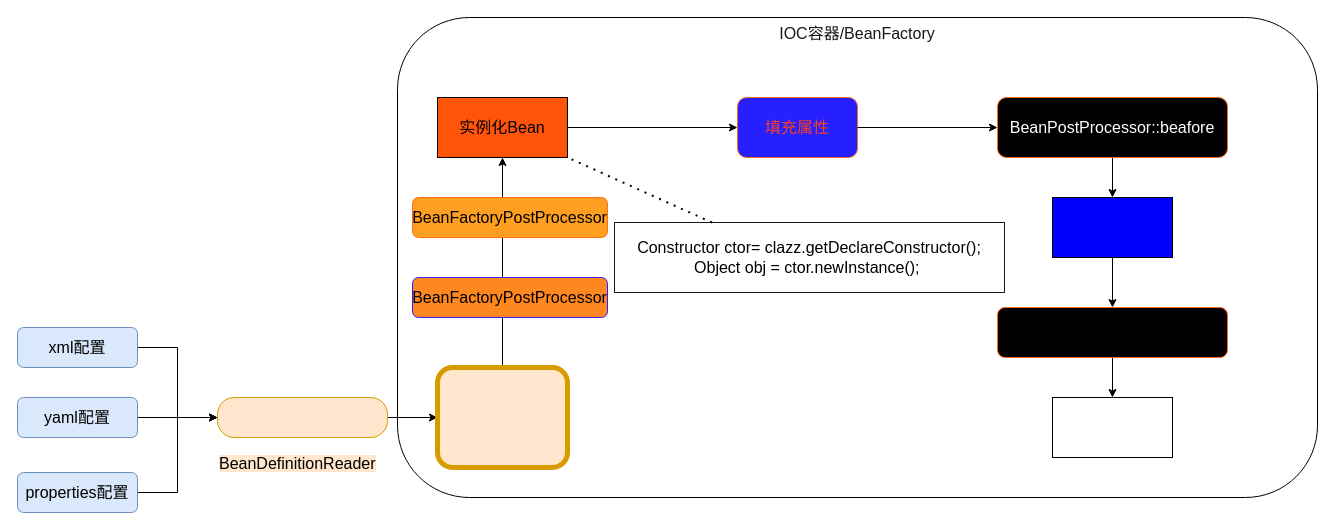
This 1335x530 diagram has some shape labels left out. The centre of each missing label's shape, as x and y in pixels:
"BeanPostProcessor::after" belongs at [1112,332].
"Bean定义信息BeanDefintions" belongs at [502,417].
"初始化 执行init" belongs at [1112,227].
"完整Bean对象" belongs at [1112,427].
"抽象接口 定义配置文件读取规范" belongs at [302,417].
